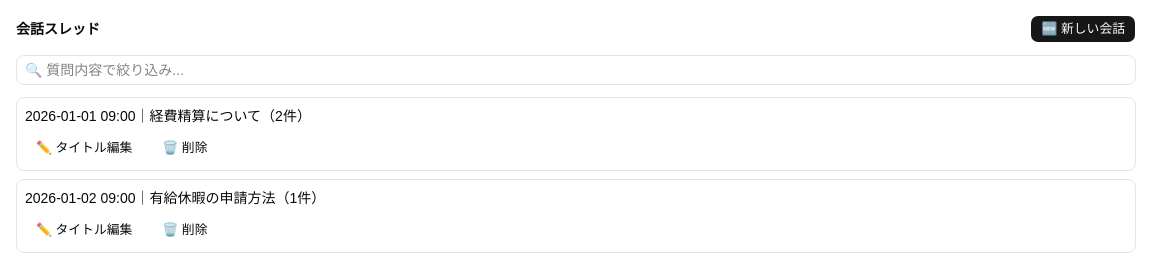
Test: ThreadPanel › 検索キーワードで絞り込める
Expected: the button "2026-01-01 09:00｜経費精算について（2件）" is shown, [25,106,1127,126]
In the field with placeholder "🔍 質問内容で絞り込み...": (576, 70) [16,55,1136,85], type "有給"
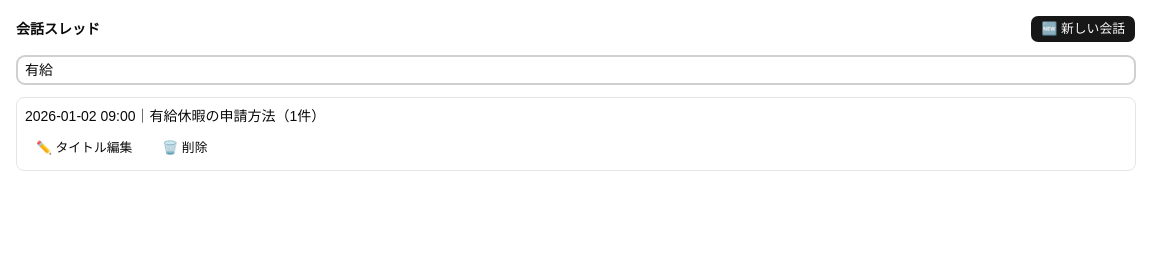
Expected: the button "2026-01-02 09:00｜有給休暇の申請方法（1件）" is shown, [25,106,1127,126]
Result: the button "経費精算について" is gone
